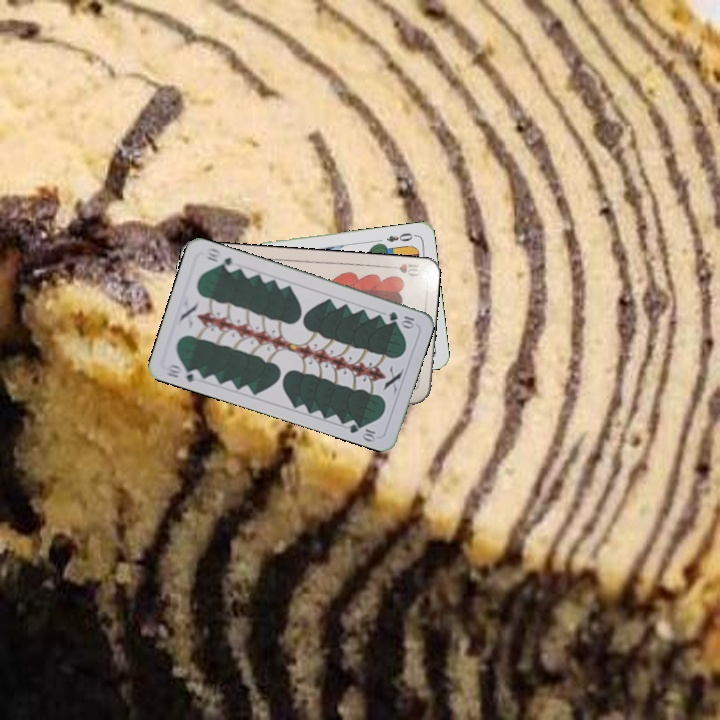EO: (382, 229, 415, 245)
G10: (161, 360, 204, 385), (385, 307, 417, 330)
H10: (383, 260, 424, 279)
